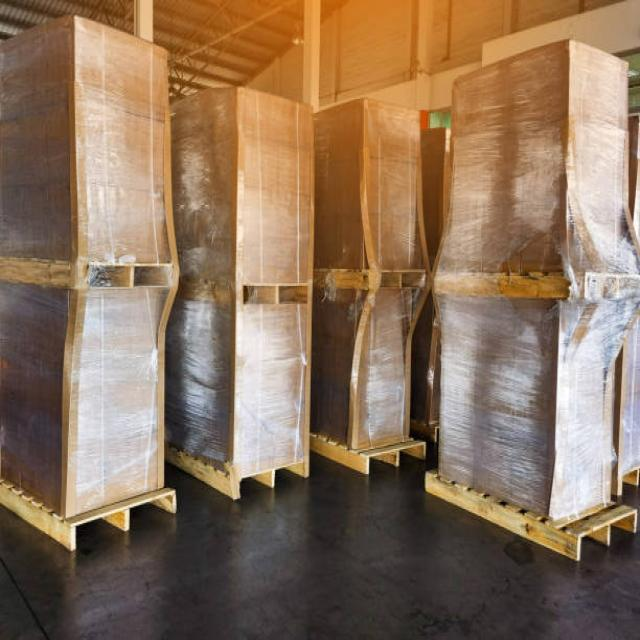Wooden-Pallets: (421, 471, 640, 565), (0, 482, 180, 558), (317, 434, 429, 483), (231, 457, 313, 504)
